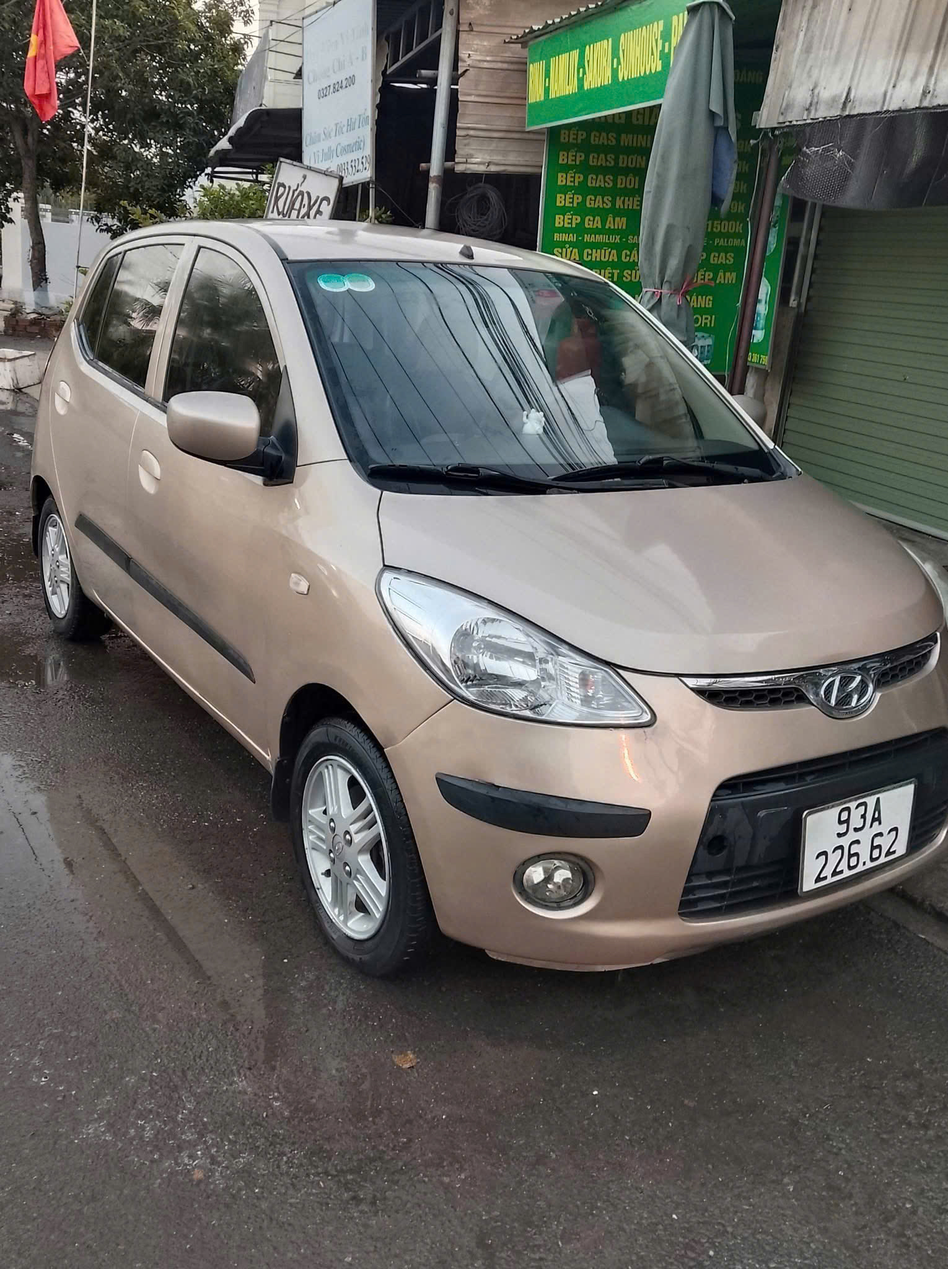Bien-so: (807, 781, 916, 890)
